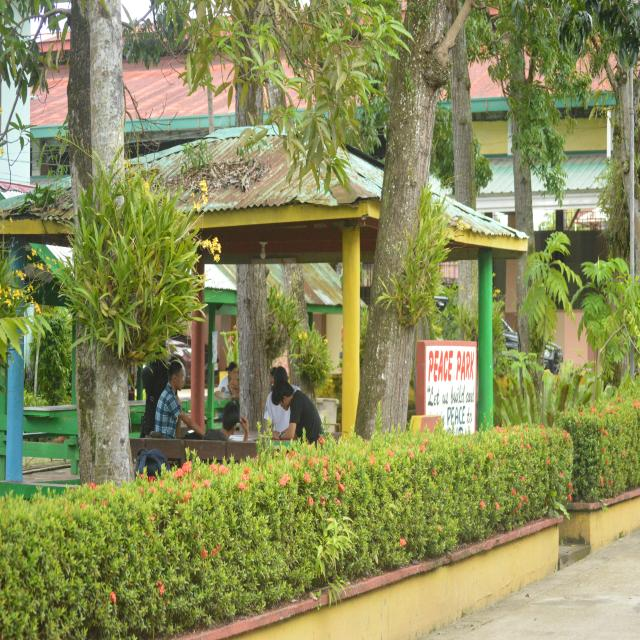person: (155, 361, 204, 438), (272, 380, 322, 443), (204, 403, 248, 441), (264, 367, 290, 431)
